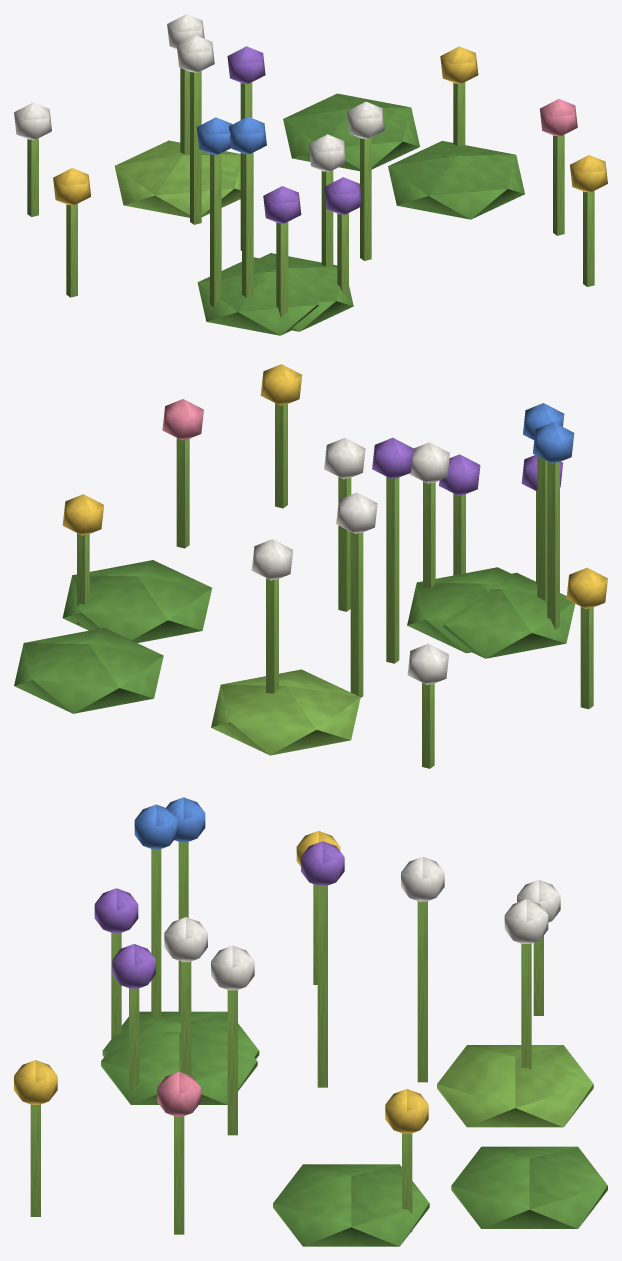
The model's file is wildflowers_01.glb.
The picture shows the model from 3 angles, top to bottom: view 1: azimuth 30°, elevation 25°; view 2: azimuth 150°, elevation 25°; view 3: azimuth 270°, elevation 25°; orthographic projection. The views are drawn at different scales.
Parts seen in each view (by area): view 1: wildflowers_01; view 2: wildflowers_01; view 3: wildflowers_01.
Boxes of the visible parts, x1,y1,x2,y2 form: wildflowers_01: (14, 14, 607, 335); wildflowers_01: (14, 364, 607, 768); wildflowers_01: (14, 797, 607, 1246).
Bounding box in the file's own units: 1.28 × 0.5702 × 1.16.
1 material, 1 textured.
